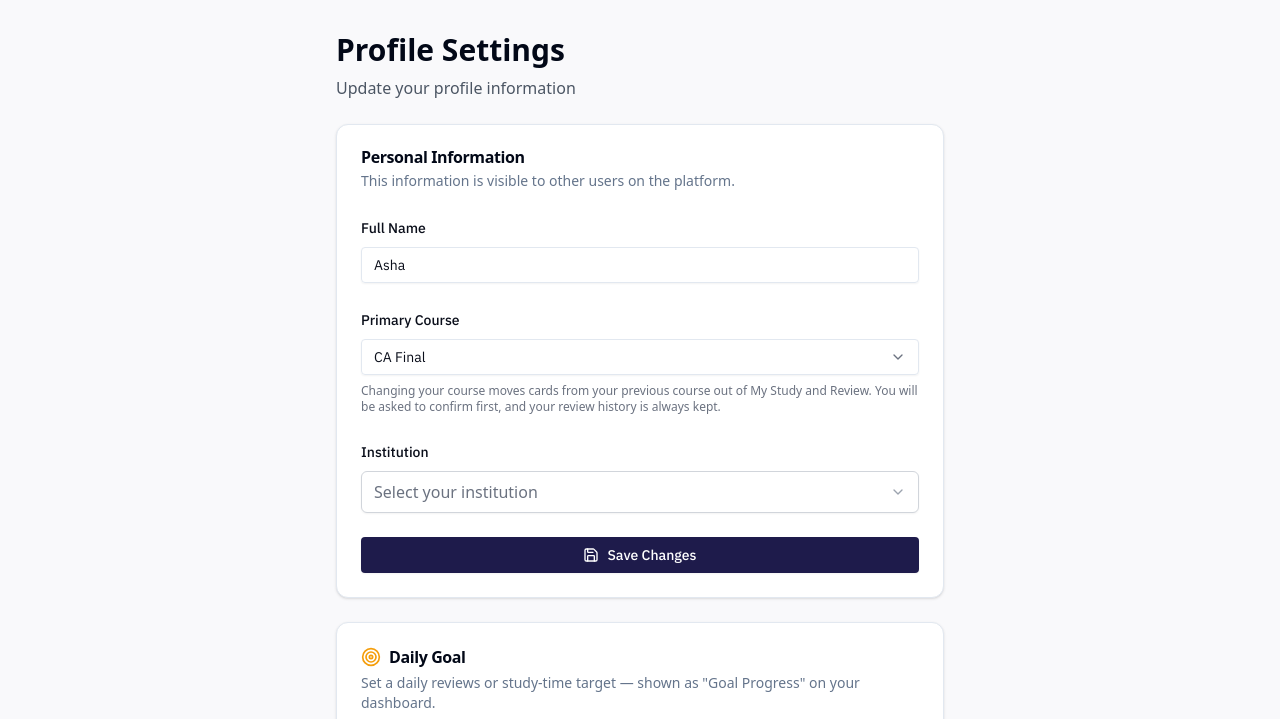
Test case: Profile Settings course (T-002 F1) › names a listed course in the confirmation and the saved listed course when a typed one matches it
The image size is (1280, 719).
Press Enter in the dropdown, box [361,339,919,375]
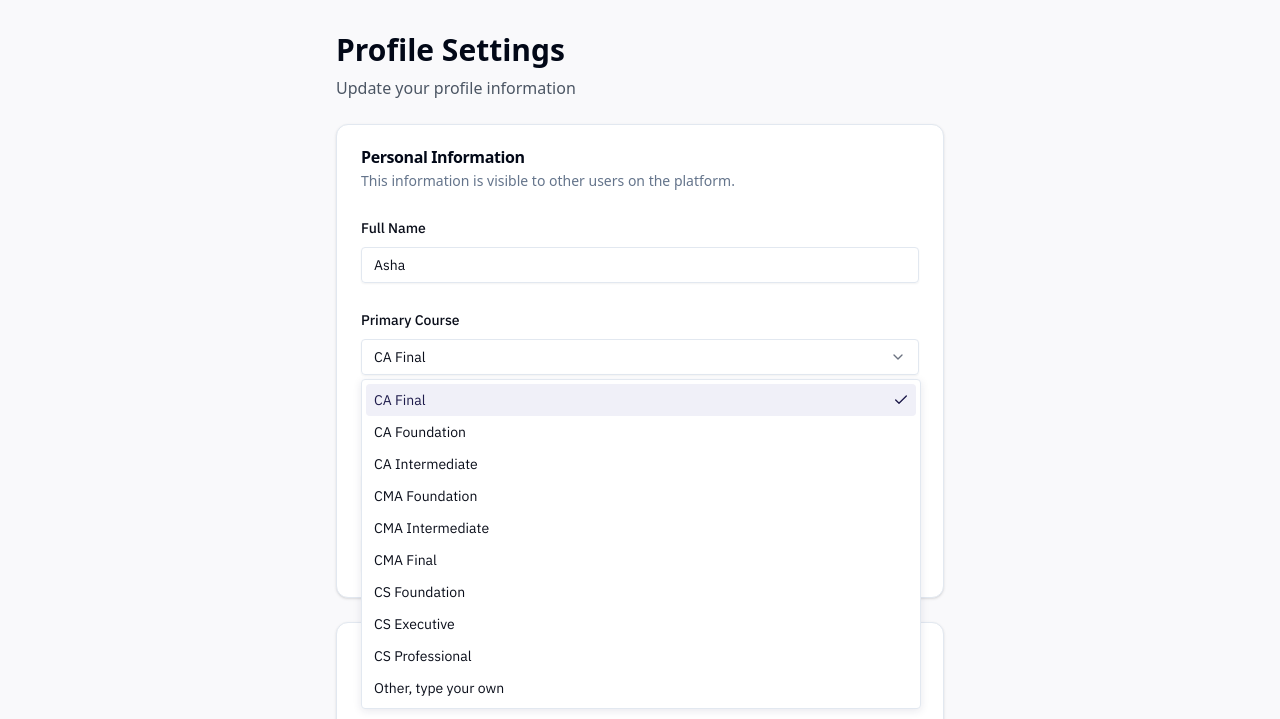
Click the option "Other, type your own". click: (439, 688)
box: [374,679,504,697]
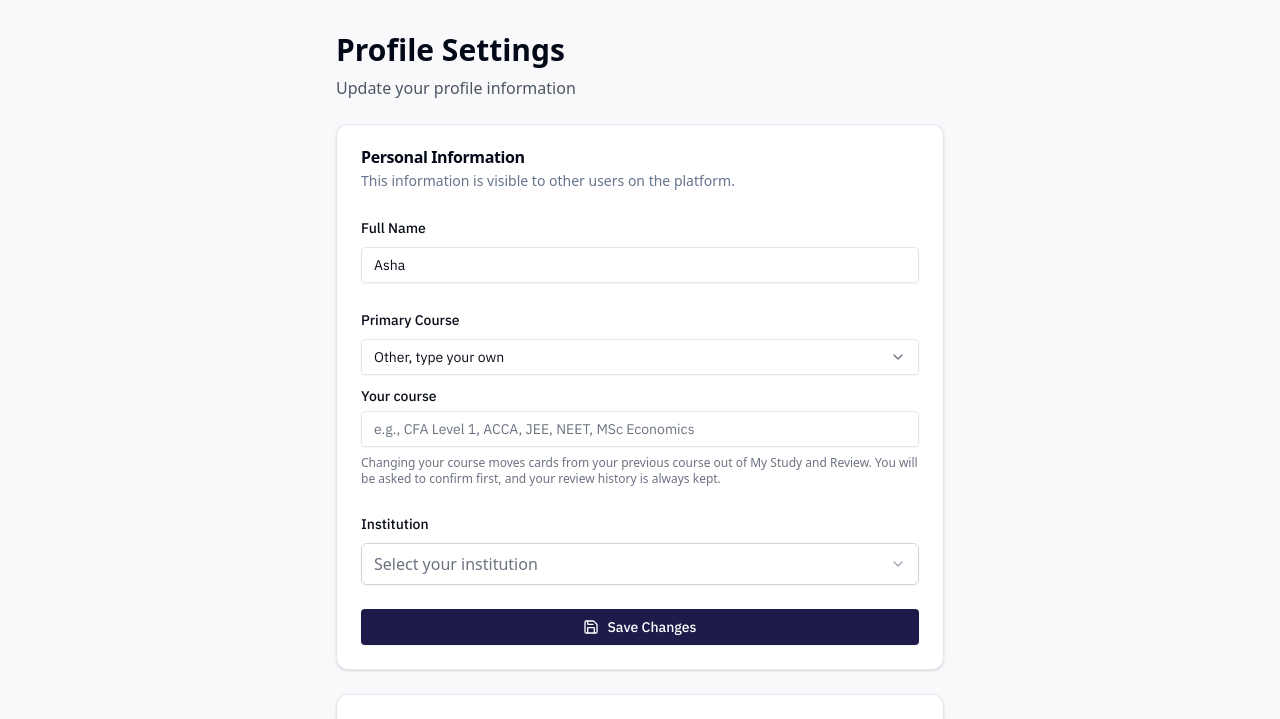
Type "ca   foundation" into the field labelled "Your course". click: (640, 429)
box: [361,411,919,447]
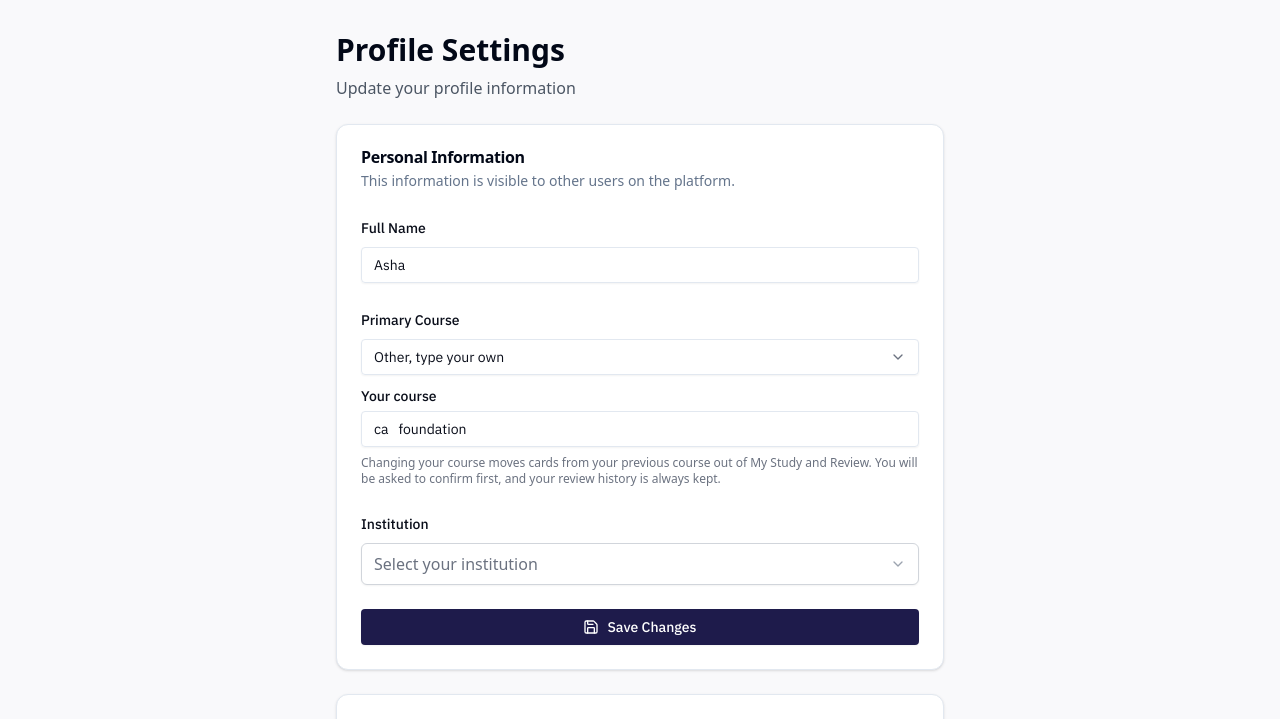
Click the button "Save Changes". click: (640, 627)
box: [361,609,919,645]
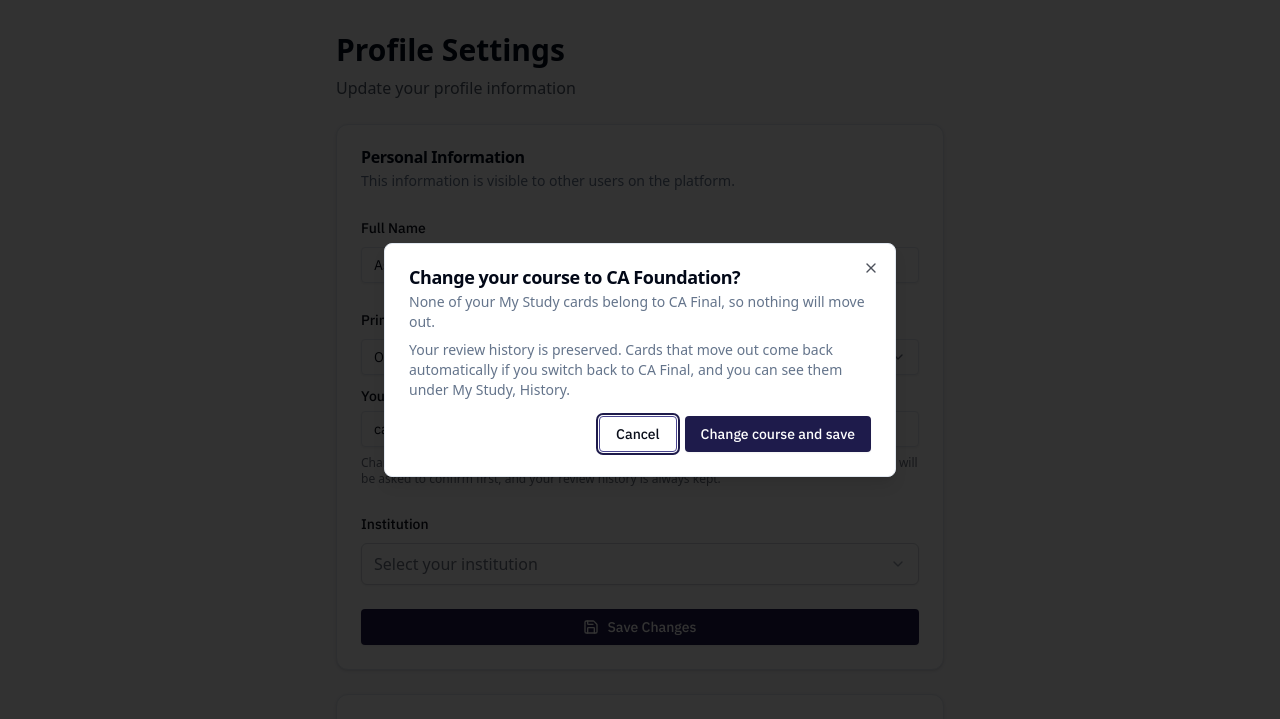
Expected: the heading "Change your course to CA Foundation?" is shown, [409,265,740,289]
